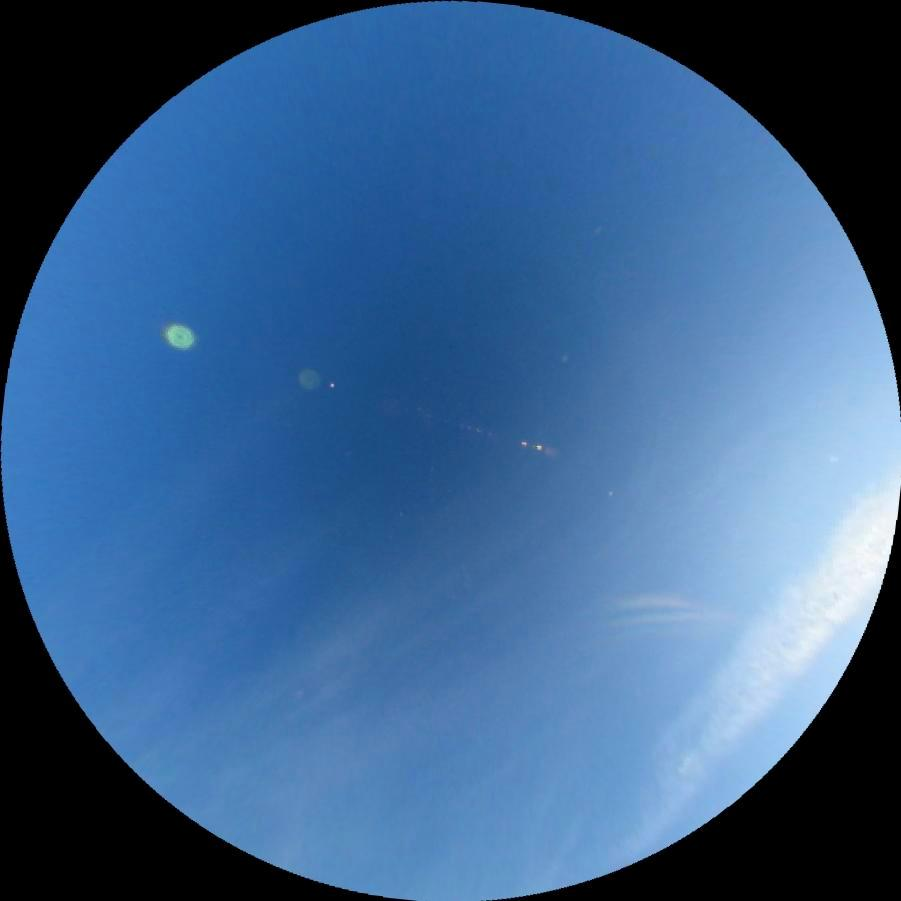contrail veryold: (577, 463, 901, 874)
contrail young: (675, 748, 694, 777)
parasite: (606, 594, 699, 611)
